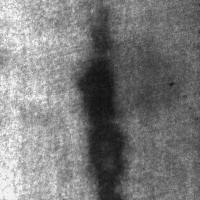patches: (85, 37, 177, 129), (79, 55, 125, 199)
